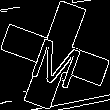M_N: (24, 23, 86, 87)
